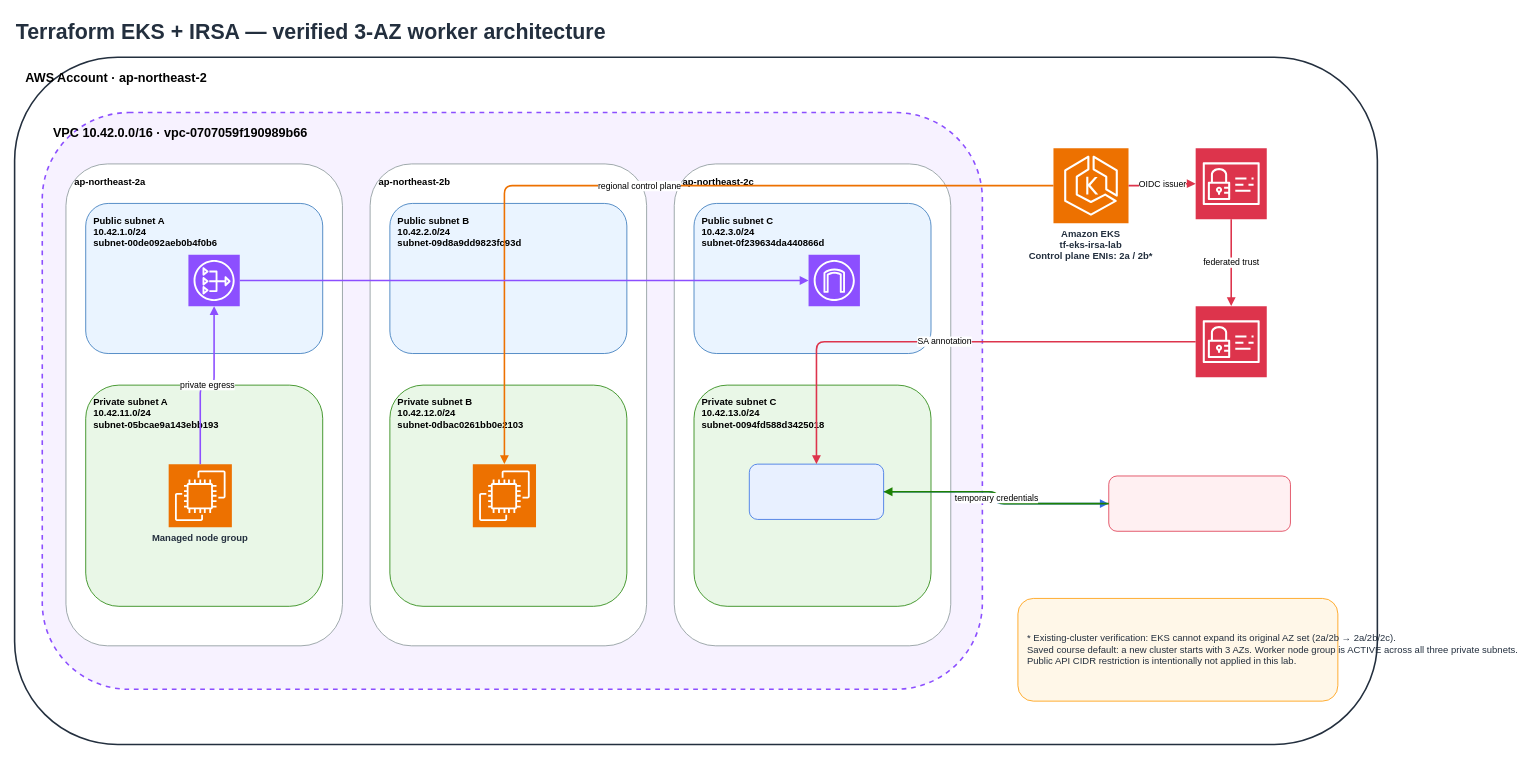
This 1531x758 diagram has some shape labels left out. The shapes that lost their labels are listed below. From the top down, each one's centre as x and y in pixels, then its label:
point 1231,183: IAM OIDC Provider
point 214,280: NAT Gateway nat-0fb790a2bbb8b2cf7 (lab: single NAT)
point 834,280: Internet Gateway
point 1231,341: IRSA IAM Role tf-eks-irsa-lab-irsa-reader
point 504,495: 3 private subnet targets
point 816,491: IRSA demo Pod ServiceAccount: aws-reader
point 1199,503: AWS STS AssumeRoleWithWebIdentity
